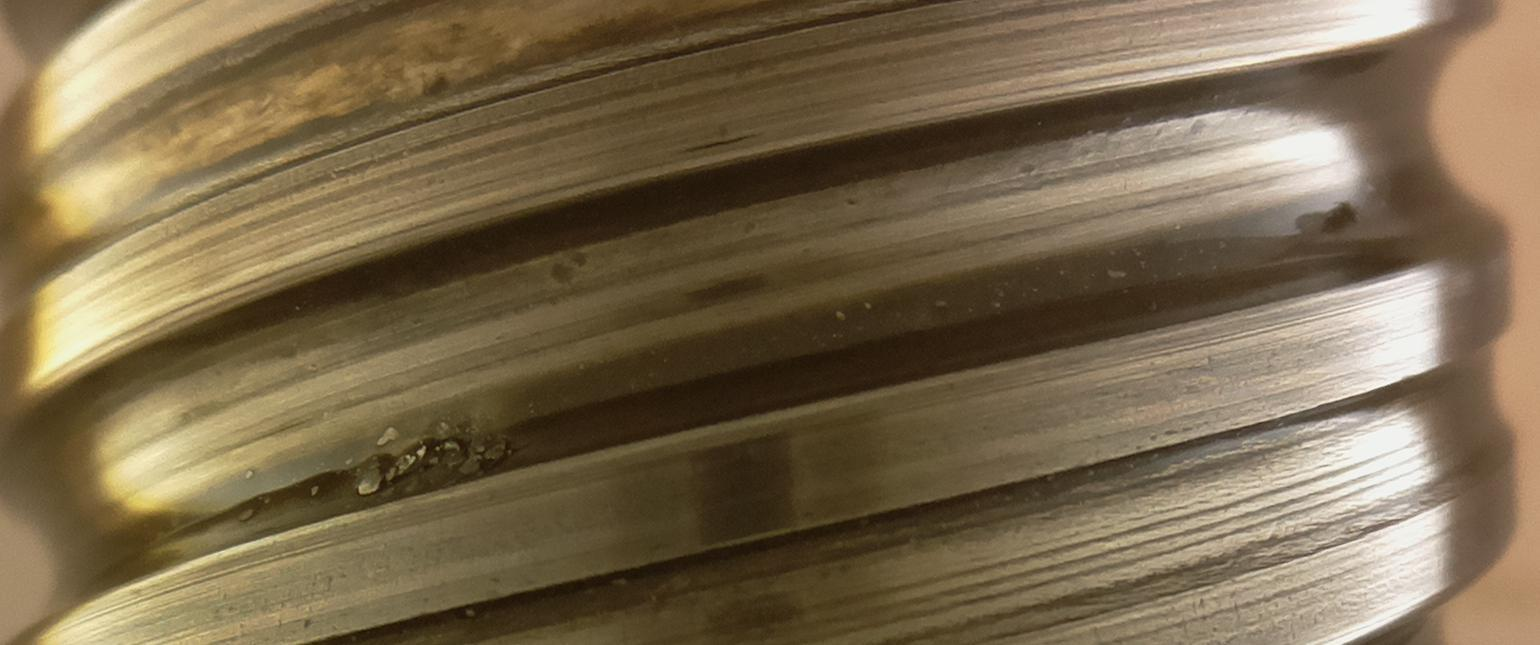pitting: (357, 433, 516, 498)
